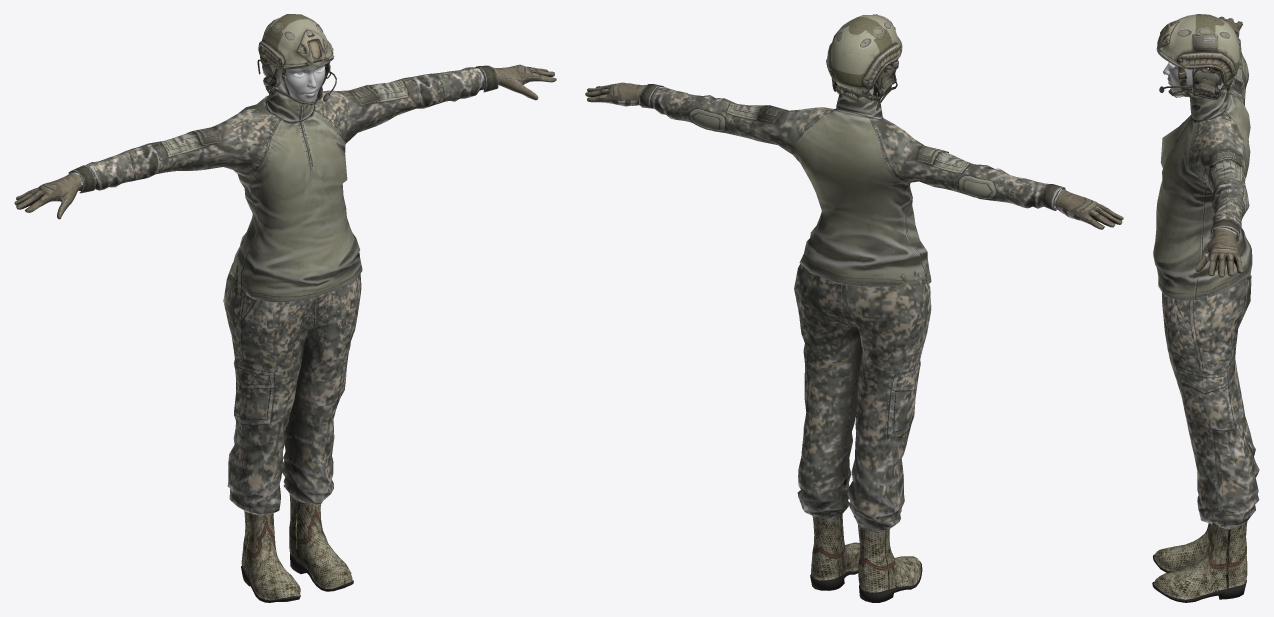
The picture shows the model from 3 angles, left to right: view 1: azimuth 30°, elevation 25°; view 2: azimuth 150°, elevation 25°; view 3: azimuth 270°, elevation 25°; orthographic projection.
Visible parts, largest first — view 1: Tops, Bottoms, Shoes, Hats, Gloves, Body; view 2: Tops, Bottoms, Shoes, Hats, Gloves; view 3: Tops, Bottoms, Shoes, Hats, Gloves, Body.
Part boxes in pixels (bbox=[...]): Tops: bbox=[68, 65, 498, 302]; Bottoms: bbox=[223, 261, 361, 515]; Shoes: bbox=[241, 457, 353, 602]; Hats: bbox=[257, 14, 336, 105]; Gloves: bbox=[14, 64, 556, 219]; Body: bbox=[267, 60, 325, 102]; Tops: bbox=[639, 84, 1065, 286]; Bottoms: bbox=[794, 264, 931, 532]; Shoes: bbox=[810, 474, 922, 602]; Hats: bbox=[826, 14, 902, 102]; Gloves: bbox=[585, 82, 1123, 229]; Tops: bbox=[1153, 30, 1252, 300]; Bottoms: bbox=[1162, 274, 1259, 529]; Shoes: bbox=[1152, 522, 1247, 602]; Hats: bbox=[1156, 14, 1239, 99]; Gloves: bbox=[1195, 16, 1242, 277]; Body: bbox=[1163, 62, 1223, 94].
Size of the model in its own units: 179 by 181 by 31.09.
